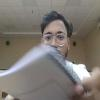notebook: (0, 43, 91, 99)
